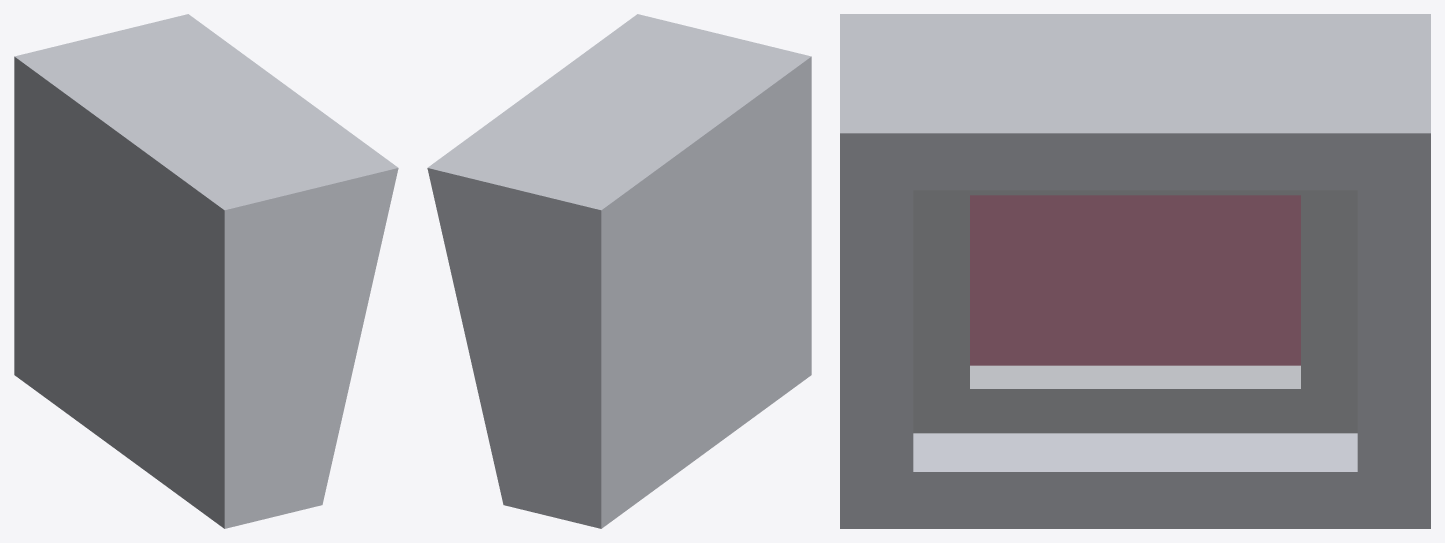
3 renders of one model, left to right at view 1: azimuth 30°, elevation 25°; view 2: azimuth 150°, elevation 25°; view 3: azimuth 270°, elevation 25°, orthographic. The views are drawn at different scales.
Visible parts, largest first — view 1: object_060-col; view 2: object_060-col; view 3: object_060-col.
Part boxes in pixels (<box>): object_060-col: <box>14,14,398,528</box>; object_060-col: <box>427,14,811,528</box>; object_060-col: <box>840,14,1430,528</box>.
Size of the model in its own units: 0.2286 by 0.4 by 0.4784.
